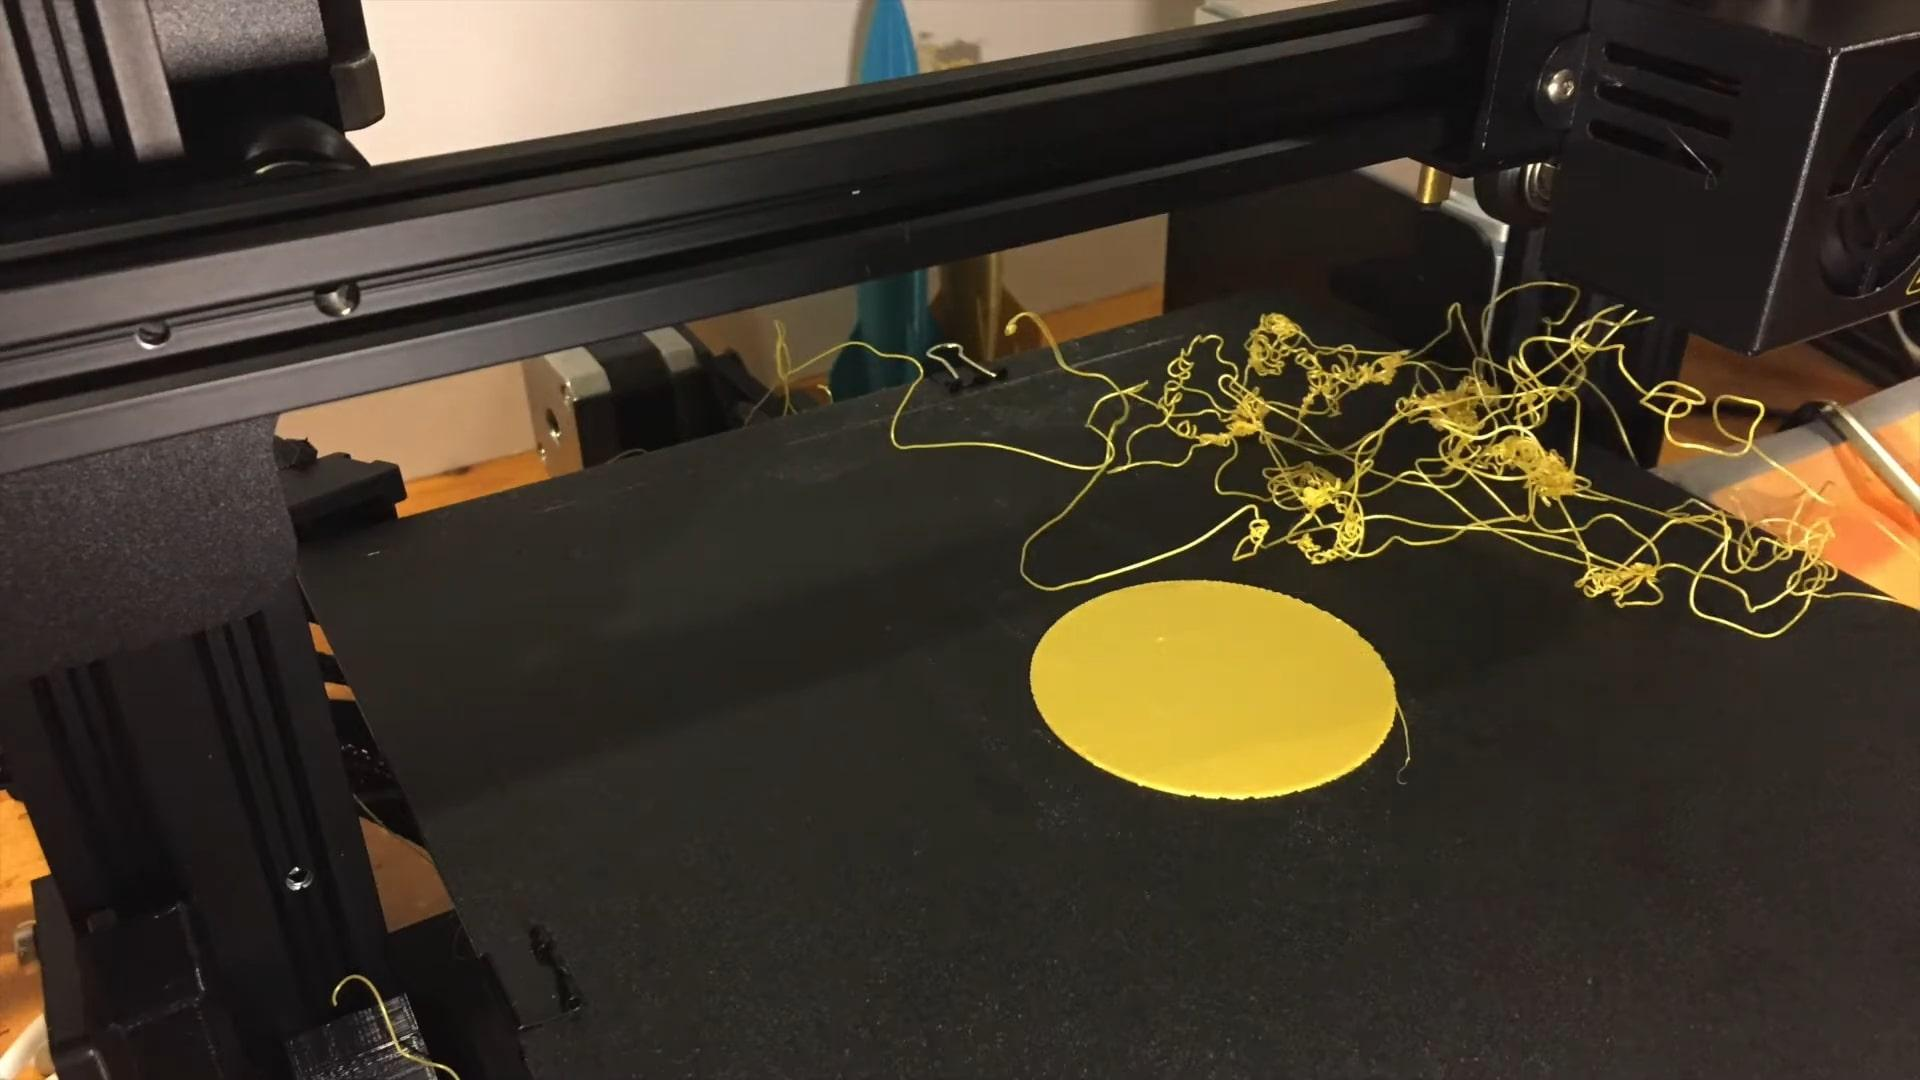Printing-Artifact: (1058, 264, 1879, 651)
